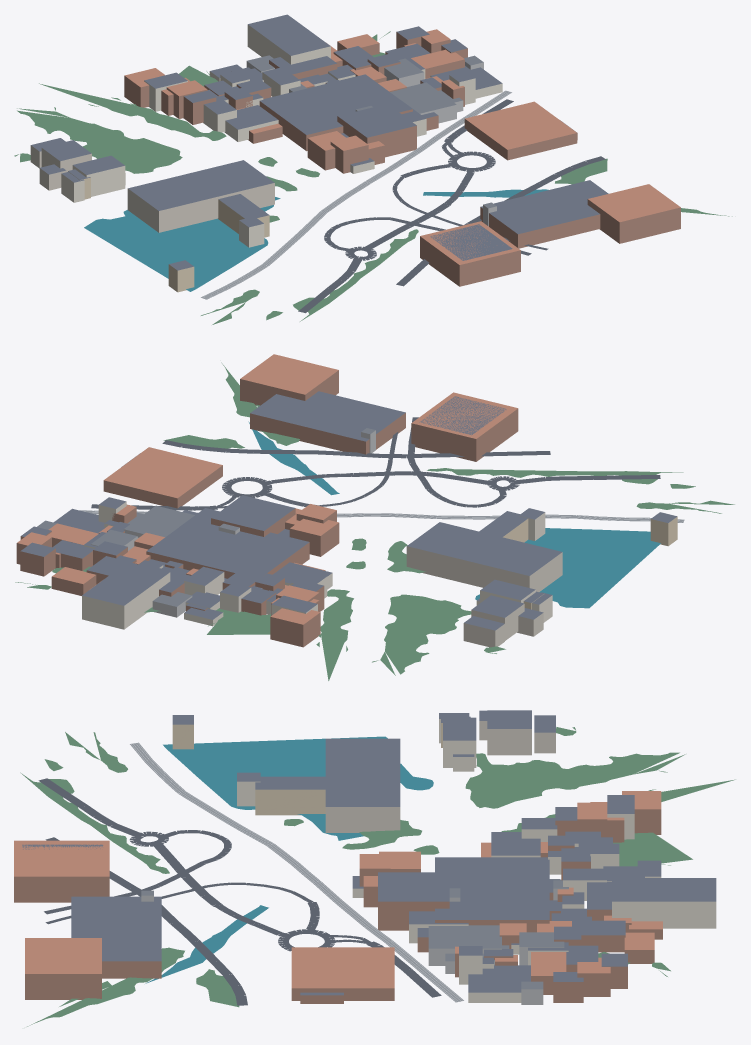
File: tile_5_2_lod1.glb
3 views of the same model, one above another, from view 1: azimuth 30°, elevation 25°; view 2: azimuth 150°, elevation 25°; view 3: azimuth 270°, elevation 25° (orthographic). The views are drawn at different scales.
Parts seen in each view (by area): view 1: TileRoot; view 2: TileRoot; view 3: TileRoot.
Part boxes in pixels (x1=…): TileRoot: x1=14, y1=14, x2=732, y2=324; TileRoot: x1=15, y1=354, x2=734, y2=680; TileRoot: x1=14, y1=710, x2=735, y2=1026.
Bounding box in the file's own units: 457 × 28.2 × 470.
